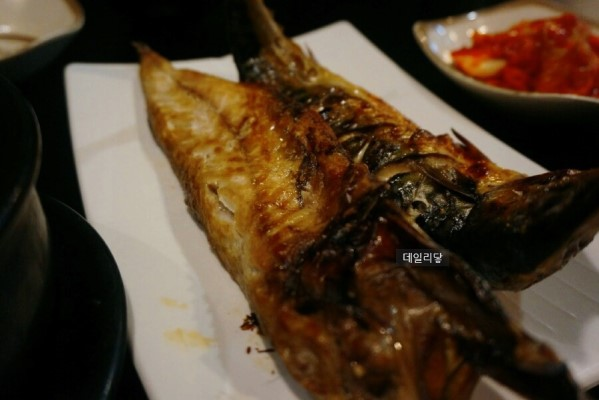godeung-eogu-i: (131, 38, 599, 400), (221, 0, 599, 286)
